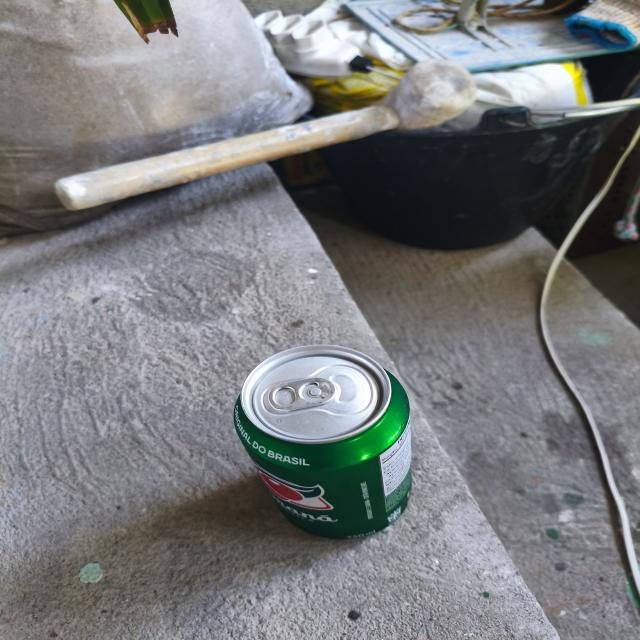Guarana: (210, 336, 444, 546)
